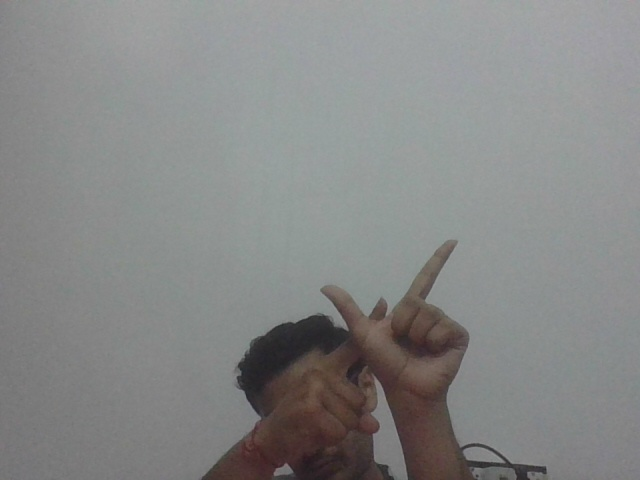Y: (312, 234, 483, 435)
